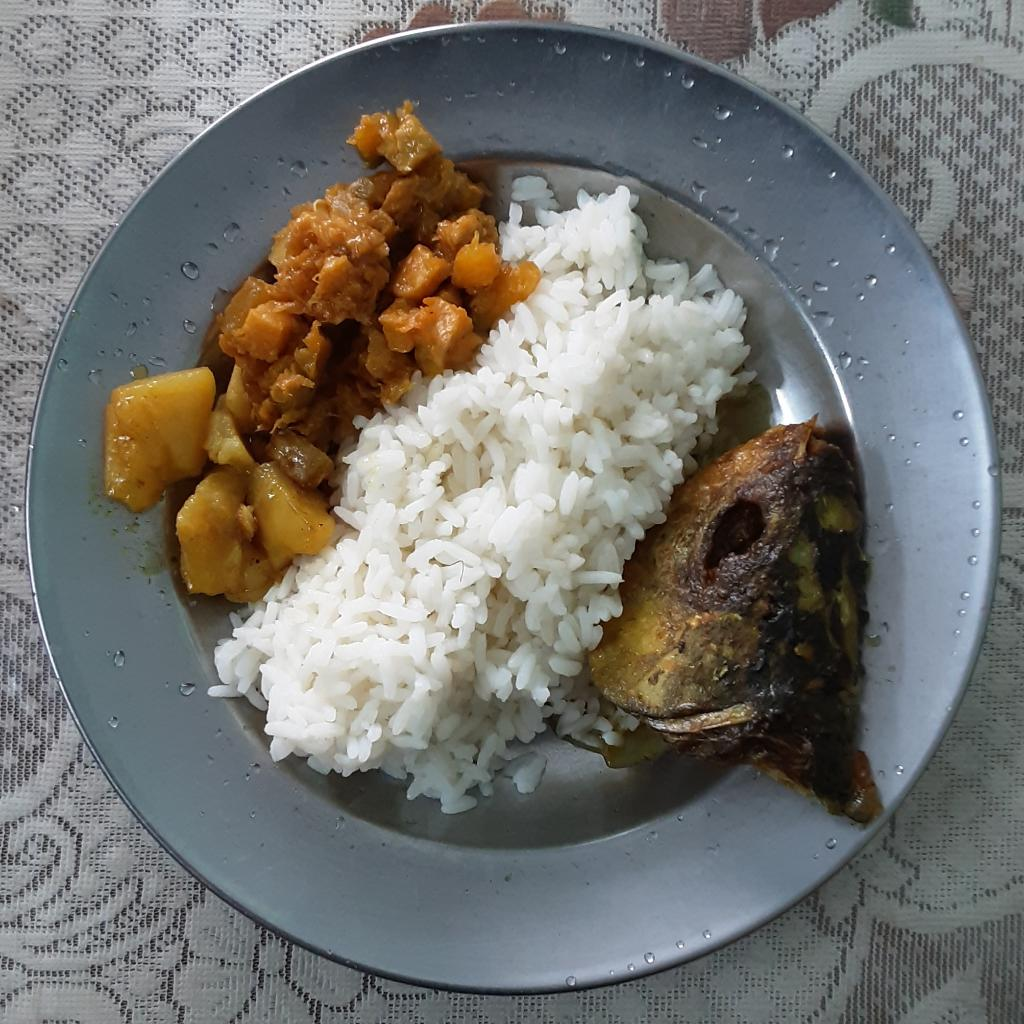fish: (594, 418, 882, 830)
rice: (201, 178, 758, 817)
vegetable: (101, 97, 542, 609)
